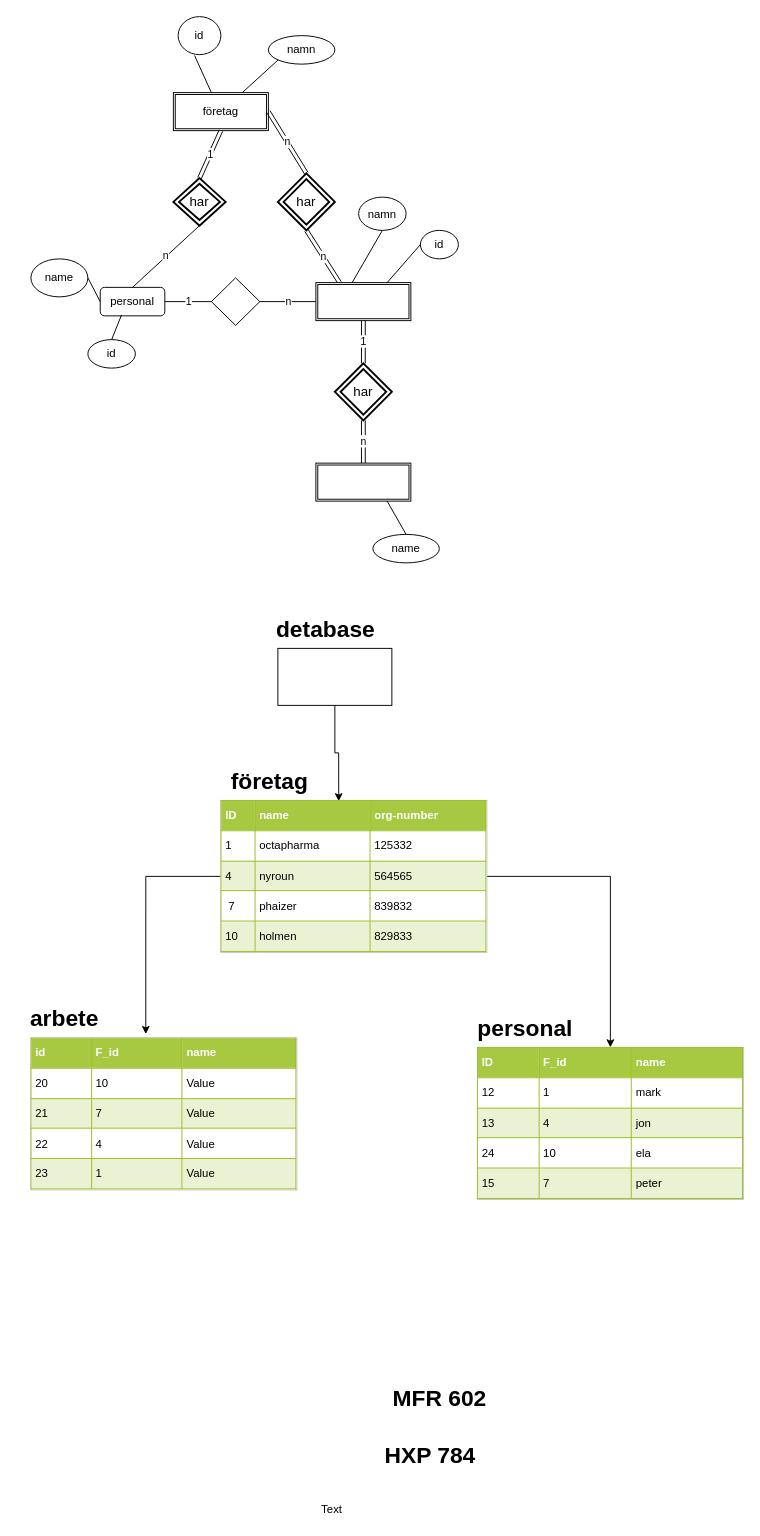
This 760x1536 diagram has some shape labels left out. The shapes that lost their labels are listed below. From the top down, each one's centre as x and y in pixels, then its label:
the point at 235,301: jobbar
the point at 363,301: linje
the point at 363,481: smöjPoint
the point at 334,676: users
